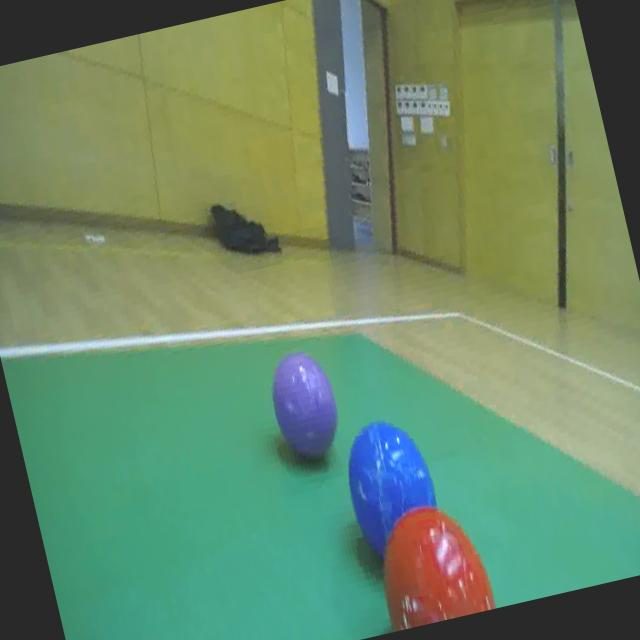blue_ball: (335, 410, 449, 564)
purple_ball: (261, 344, 348, 469)
red_ball: (367, 496, 498, 632)
